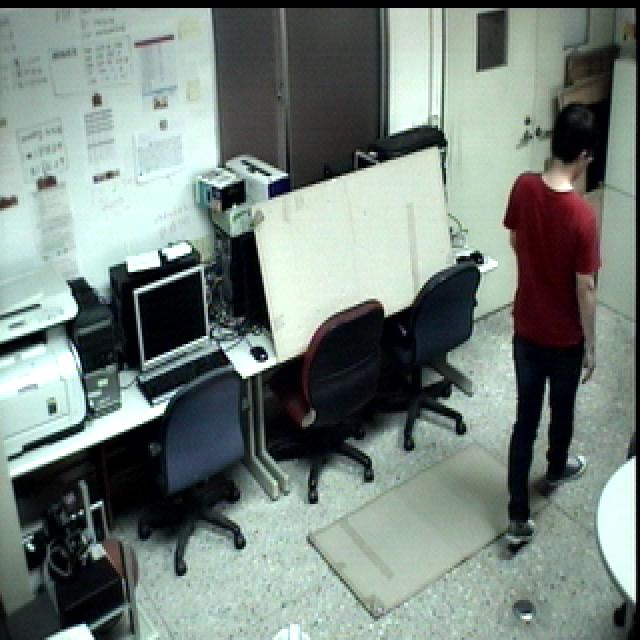stand: (498, 95, 607, 554)
